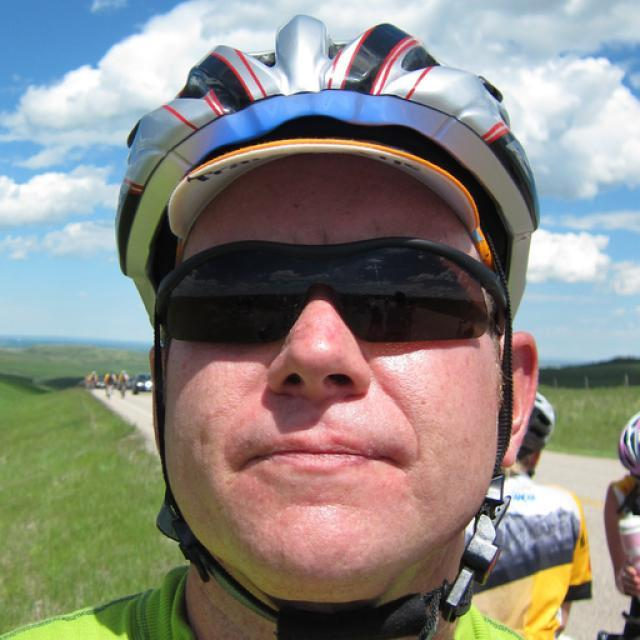neutral: (163, 159, 508, 575)
